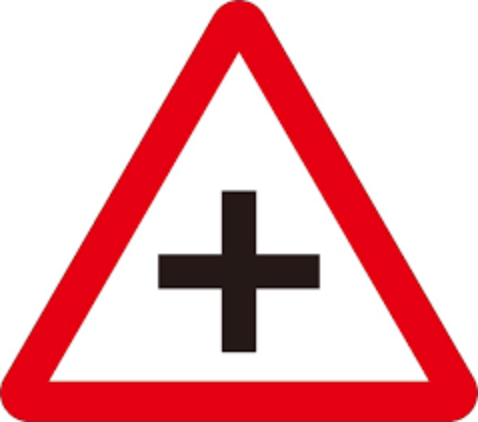Fork_road: (1, 2, 478, 421)
